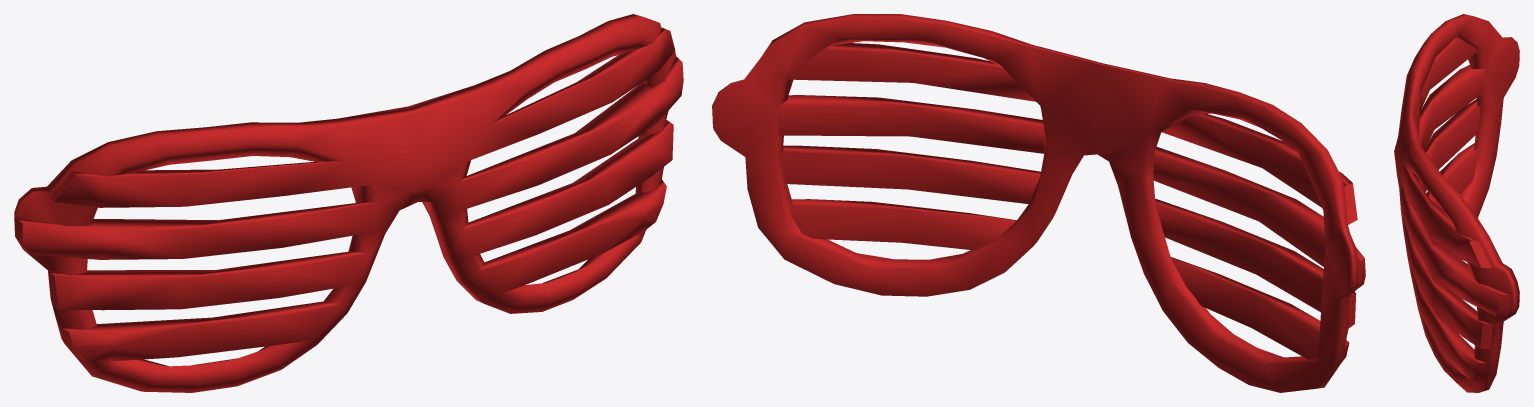
The model's file is AccessoryGlassBlind0.glb.
The picture shows the model from 3 angles, left to right: view 1: azimuth 30°, elevation 25°; view 2: azimuth 150°, elevation 25°; view 3: azimuth 270°, elevation 25°; orthographic projection. The views are drawn at different scales.
Visible parts, largest first — view 1: Accessory__mAccessory; view 2: Accessory__mAccessory; view 3: Accessory__mAccessory.
Part boxes in pixels (<box>): Accessory__mAccessory: <box>14,14,683,392</box>; Accessory__mAccessory: <box>712,14,1365,392</box>; Accessory__mAccessory: <box>1394,14,1519,392</box>.
Size of the model in its own units: 6.64 by 2.6 by 1.44.
Materials: 1 (1 with a texture image).
